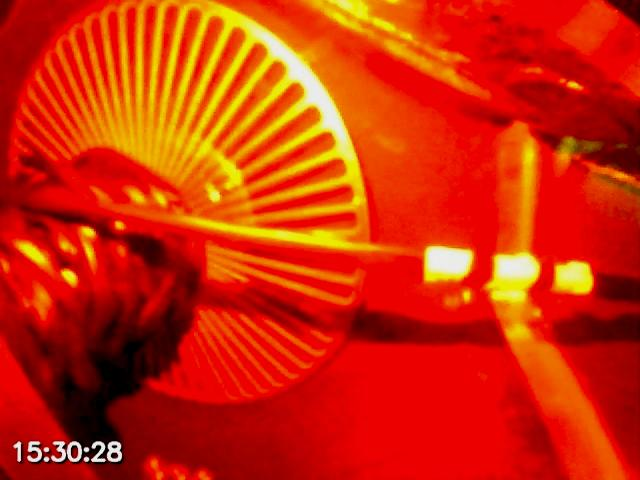white-dots: (422, 244, 594, 296)
